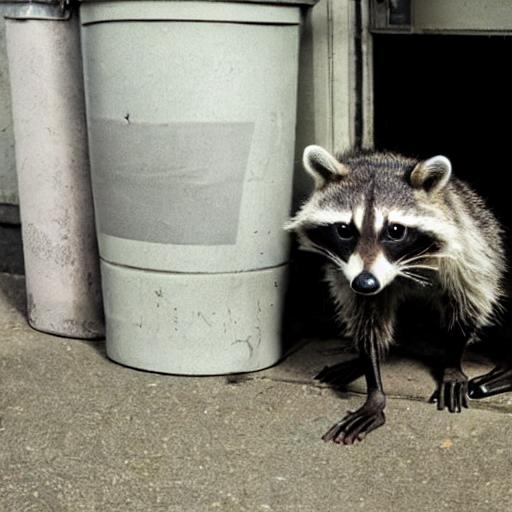raccoon: (283, 138, 503, 374)
